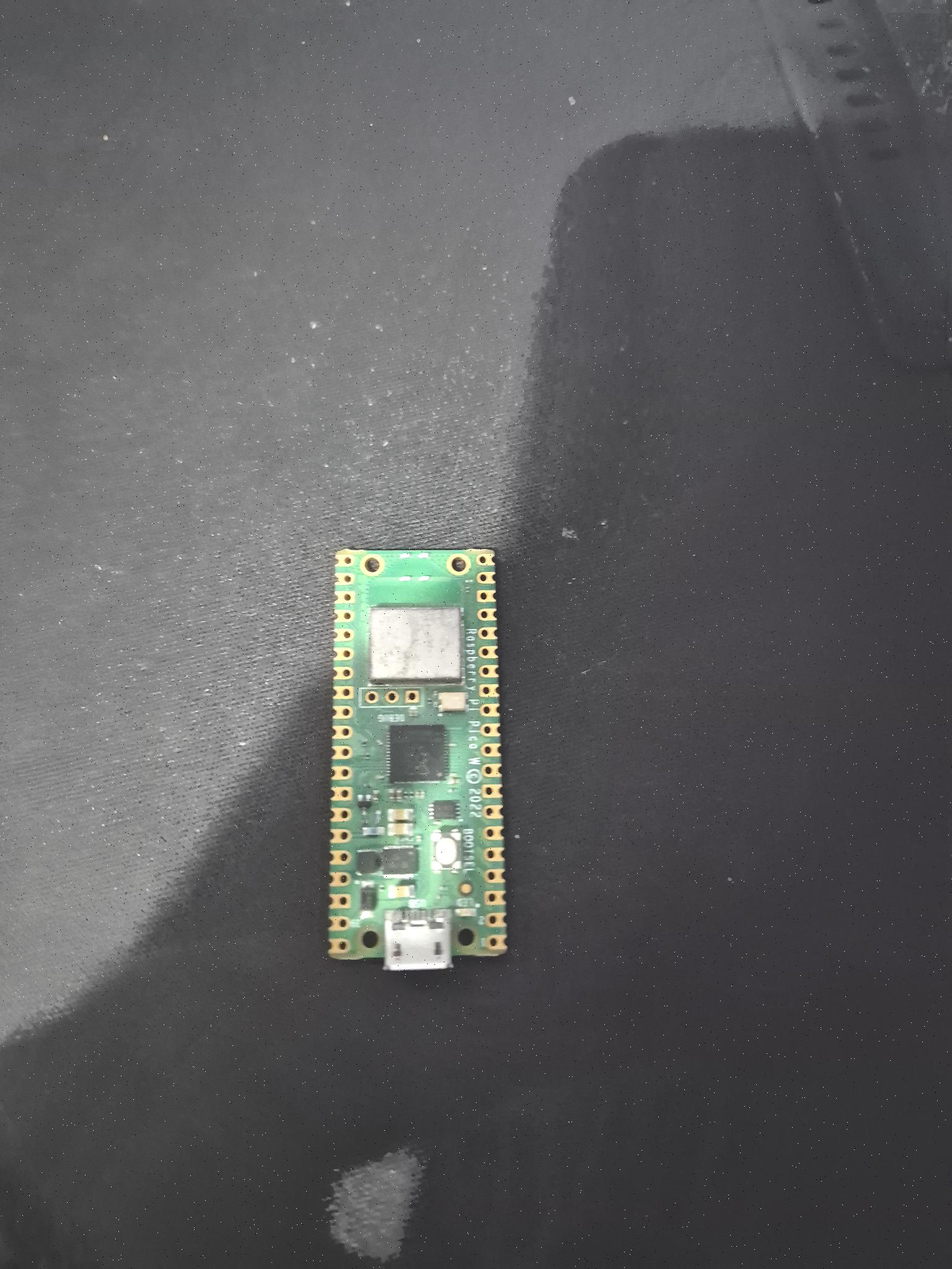raspberry-pi-pico-w: (325, 547, 511, 971)
